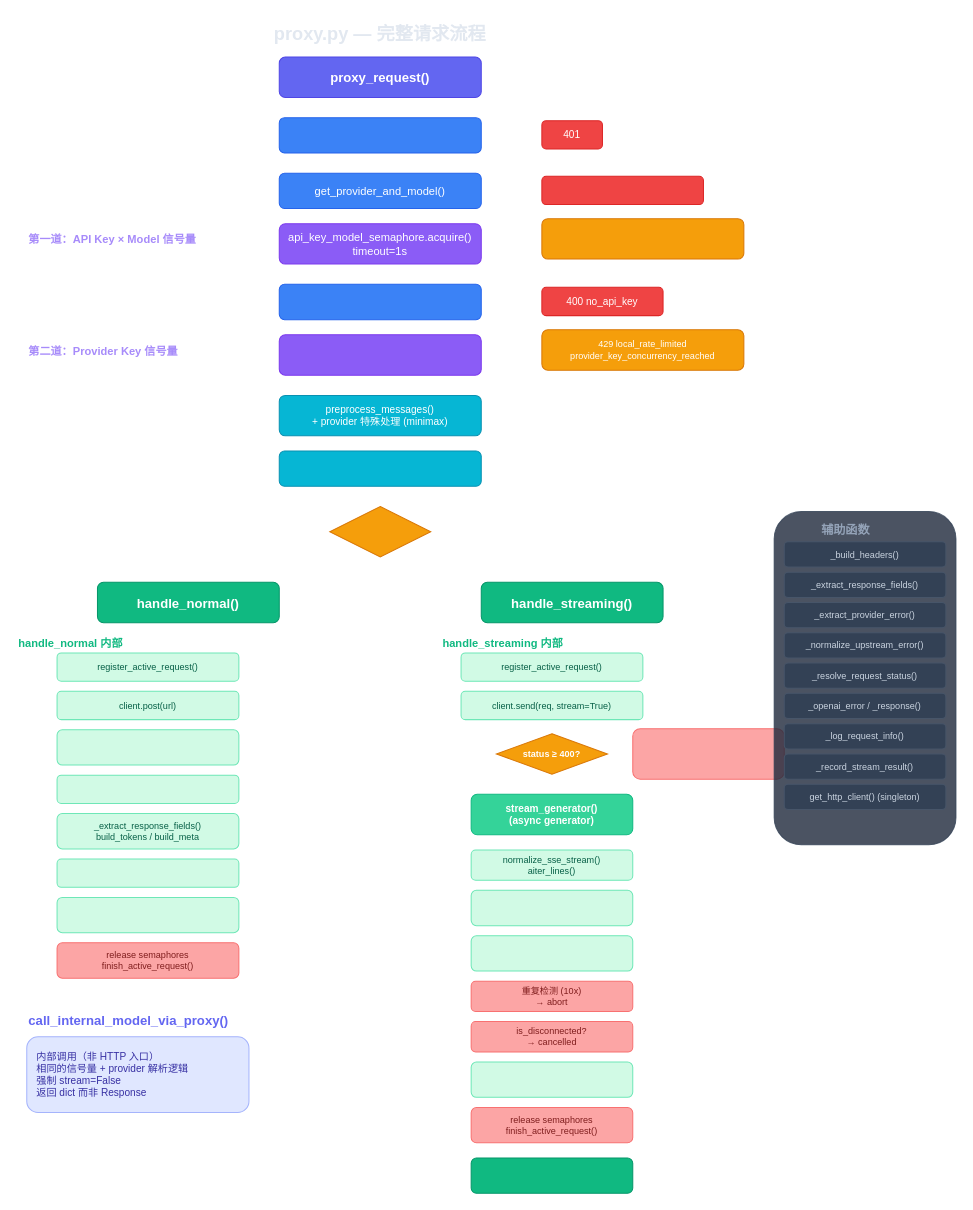
Image size: 973x1210. Some labels were removed from this diagram. The centre of each missing label's shape, as x and y in pixels:
"400 / provider_disabled" belongs at (x=622, y=190).
"429 local_rate_limited api_key_model_concurrency_reached" belongs at (x=642, y=238).
"_build_headers() + build target URL" belongs at (x=379, y=468).
"_normalize_upstream_error() if status != success" belongs at (x=147, y=914).
"_record_stream_result() success / error / cancelled" belongs at (x=551, y=1079).
"check_usage_limit_error() → disable_provider_key()" belongs at (x=147, y=747).
"log error + normalize_upstream_error() → return Response" belongs at (x=708, y=753).
"minimax: process_minimax_response()" belongs at (x=147, y=788).
"MinimaxStreamProcessor (if provider=minimax)" belongs at (x=551, y=953).
"parse SSE chunks collect content / reasoning / tool_calls" belongs at (x=551, y=907).
"pick_api_key()" belongs at (x=379, y=301).
"provider_key_semaphore.acquire() timeout=1s" belongs at (x=379, y=354).
"stream?" belongs at (x=380, y=531).
"StreamingResponse" belongs at (x=551, y=1175).
"update_stats() + log_request()" belongs at (x=147, y=872).
"validate_api_key" belongs at (x=379, y=135).
